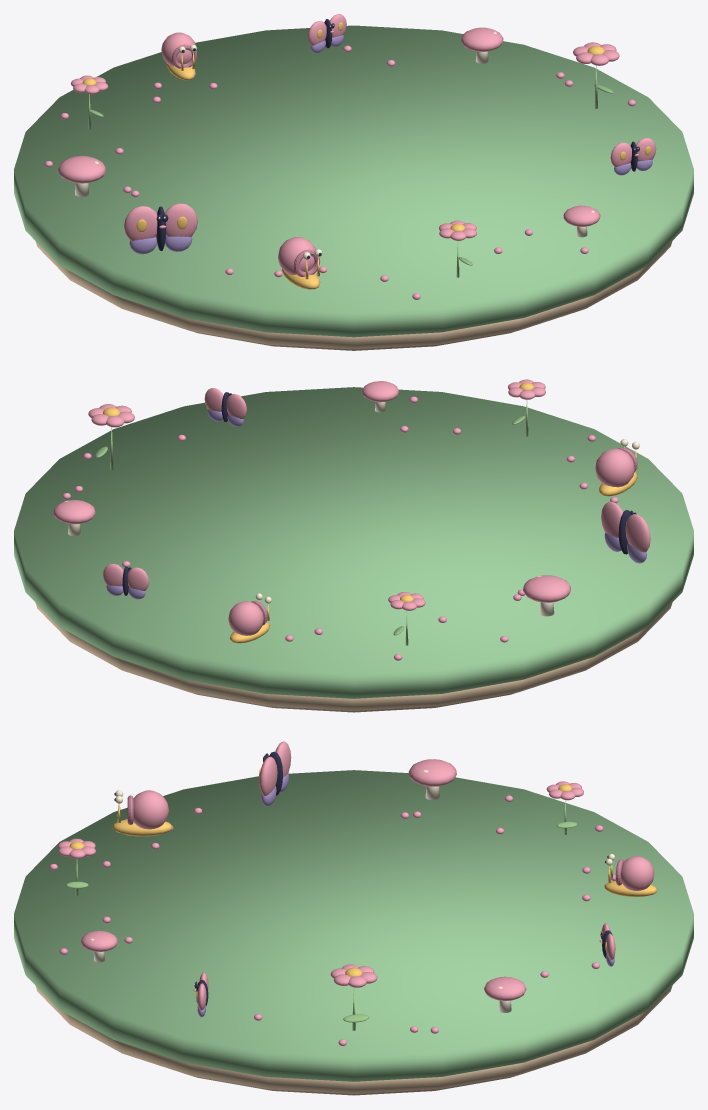
The model's file is world.glb.
3 views of the same model, one above another, from view 1: azimuth 30°, elevation 25°; view 2: azimuth 150°, elevation 25°; view 3: azimuth 270°, elevation 25° (orthographic).
Visible parts, largest first — view 1: Cone, Cone.001, butterfly.002, snail.002, snail.001, butterfly.003, mushroom.002, butterfly.001, flower.001, mushroom.001, flower.003, mushroom.003 (+2 smaller); view 2: Cone, Cone.001, butterfly.002, snail.002, snail.001, butterfly.001, mushroom.002, butterfly.003, flower.001, mushroom.001, flower.003, mushroom.003 (+2 smaller); view 3: Cone, Cone.001, snail.002, snail.001, butterfly.002, mushroom.002, flower.001, mushroom.001, flower.003, mushroom.003, flower.002, Cone.002.
Part boxes in pixels (box(x1,y1,x2,y2)): Cone: box(14, 25, 693, 337); Cone.001: box(35, 241, 672, 349); butterfly.002: box(124, 203, 197, 254); snail.002: box(278, 237, 322, 289); snail.001: box(161, 32, 196, 80); butterfly.003: box(610, 138, 656, 175); mushroom.002: box(58, 156, 106, 196); butterfly.001: box(308, 14, 346, 53); flower.001: box(573, 42, 619, 108); mushroom.001: box(461, 27, 503, 63); flower.003: box(439, 220, 476, 277); mushroom.003: box(563, 205, 600, 237); Cone: box(14, 387, 693, 698); Cone.001: box(35, 602, 672, 710); butterfly.002: box(601, 501, 650, 563); snail.002: box(595, 439, 639, 496); snail.001: box(228, 593, 271, 643); butterfly.001: box(103, 564, 148, 599); mushroom.002: box(523, 575, 570, 616); butterfly.003: box(204, 388, 246, 426); flower.001: box(88, 404, 134, 470); mushroom.001: box(53, 500, 95, 536); flower.003: box(508, 379, 545, 436); mushroom.003: box(362, 381, 398, 412); Cone: box(14, 770, 693, 1081); Cone.001: box(35, 985, 672, 1093); snail.002: box(112, 790, 172, 836); snail.001: box(604, 853, 657, 896); butterfly.002: box(259, 741, 291, 806); mushroom.002: box(408, 759, 456, 800); flower.001: box(330, 964, 377, 1030); mushroom.001: box(484, 976, 526, 1012); flower.003: box(58, 838, 95, 895); mushroom.003: box(81, 930, 117, 962); flower.002: box(546, 781, 583, 834); Cone.002: box(192, 1076, 515, 1095).
Bounding box in the file's own units: 9.6 × 1.75 × 9.6.
